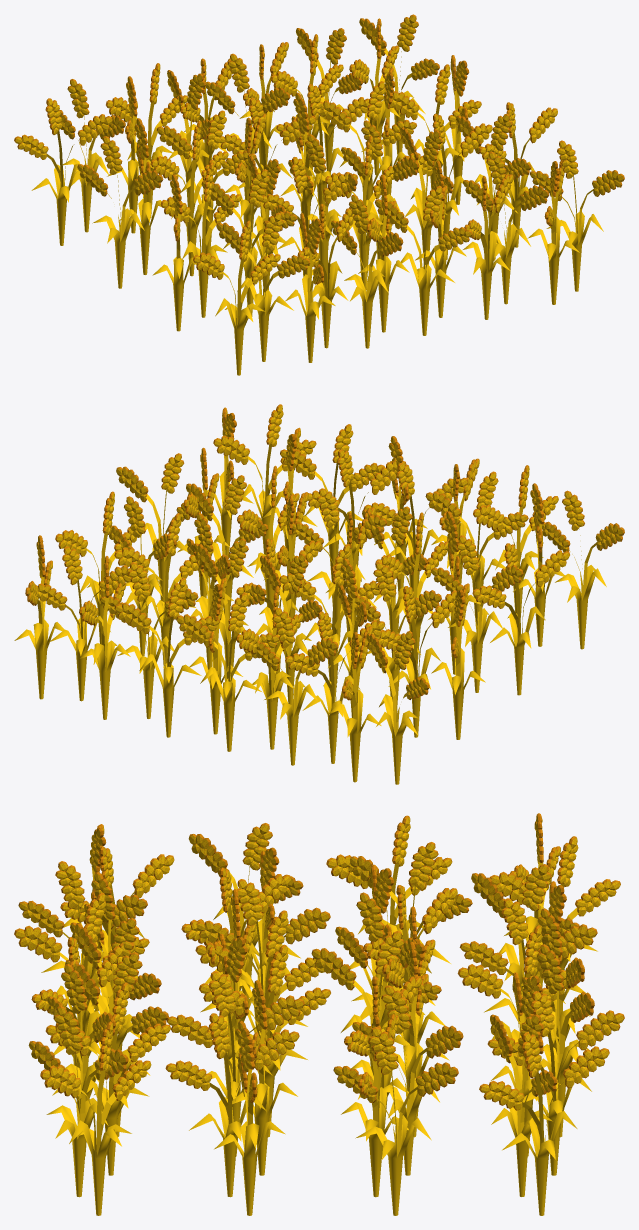
The model's file is wheat-stage3.glb.
The picture shows the model from 3 angles, top to bottom: view 1: azimuth 30°, elevation 25°; view 2: azimuth 150°, elevation 25°; view 3: azimuth 270°, elevation 25°; orthographic projection. The views are drawn at different scales.
Visible parts, largest first — view 1: Wheat_F3.001; view 2: Wheat_F3.001; view 3: Wheat_F3.001.
Part boxes in pixels (bbox=[...]): Wheat_F3.001: bbox=[14, 14, 624, 375]; Wheat_F3.001: bbox=[14, 404, 624, 784]; Wheat_F3.001: bbox=[14, 813, 624, 1215].
Size of the model in its own units: 2.27 by 0.764 by 2.26.
1 material, 1 textured.
